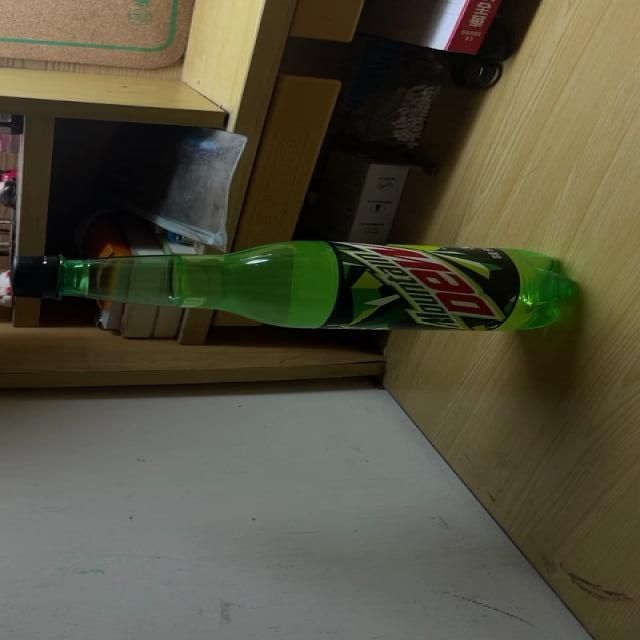Mountain-Dew: (12, 239, 580, 332)
